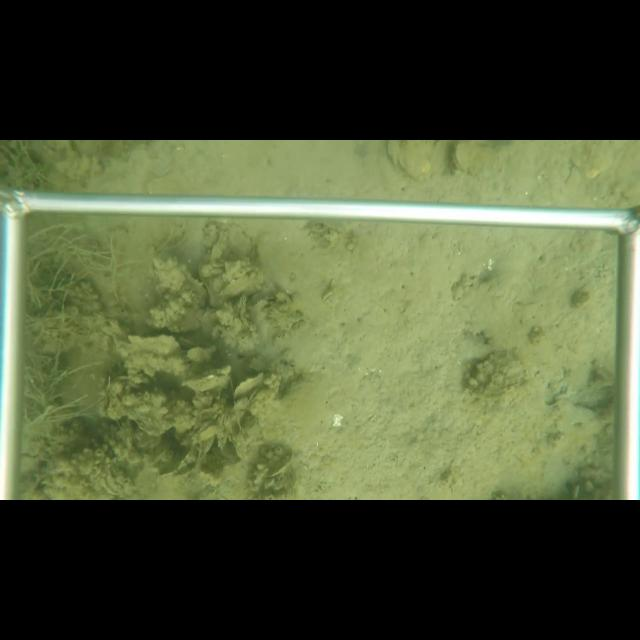Oyster-Closed: (142, 256, 207, 332), (386, 141, 449, 184), (113, 331, 184, 358), (227, 222, 259, 264), (245, 386, 283, 421), (450, 141, 483, 175), (262, 449, 297, 480), (233, 289, 258, 332), (232, 370, 263, 403)
